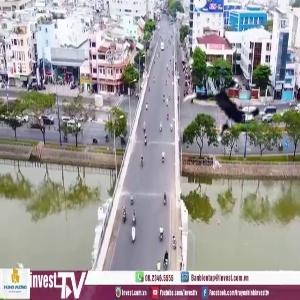drone: (175, 65, 276, 166)
